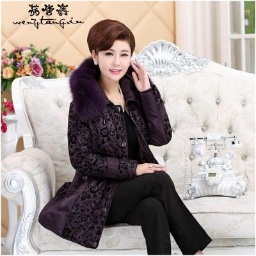face: (84, 18, 135, 81)
